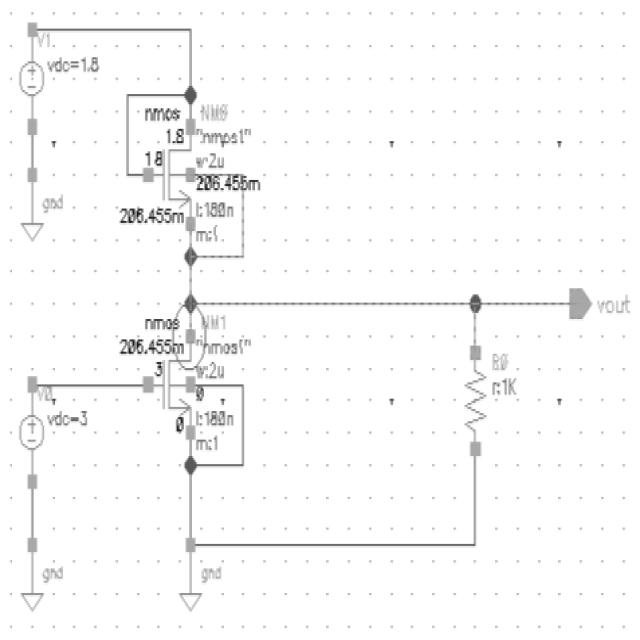nmos: (133, 99, 197, 238), (143, 311, 198, 436)
res: (458, 342, 494, 460)
vdc: (12, 383, 56, 492), (14, 25, 52, 137)
